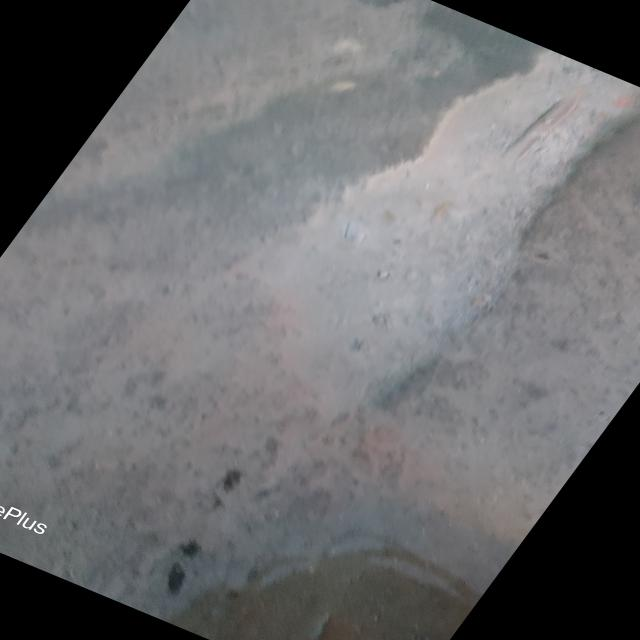potholes: (226, 50, 635, 422)
